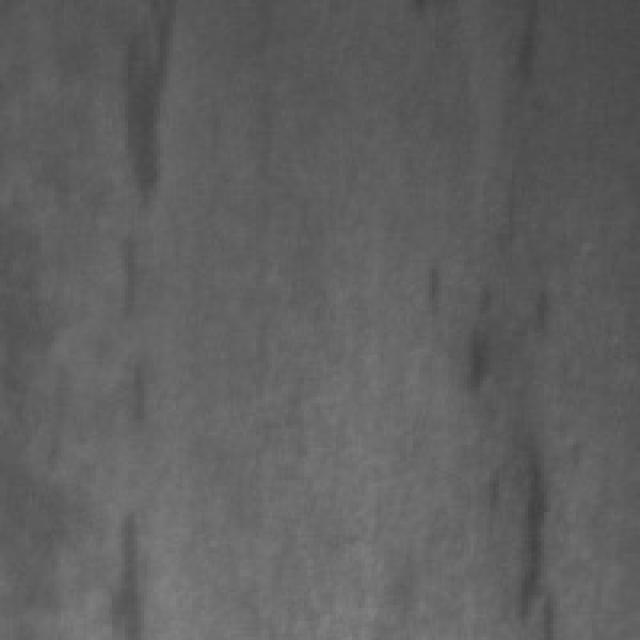inclusion: (419, 256, 554, 630), (99, 0, 172, 214), (96, 227, 150, 426), (93, 480, 150, 637), (506, 0, 550, 96)
